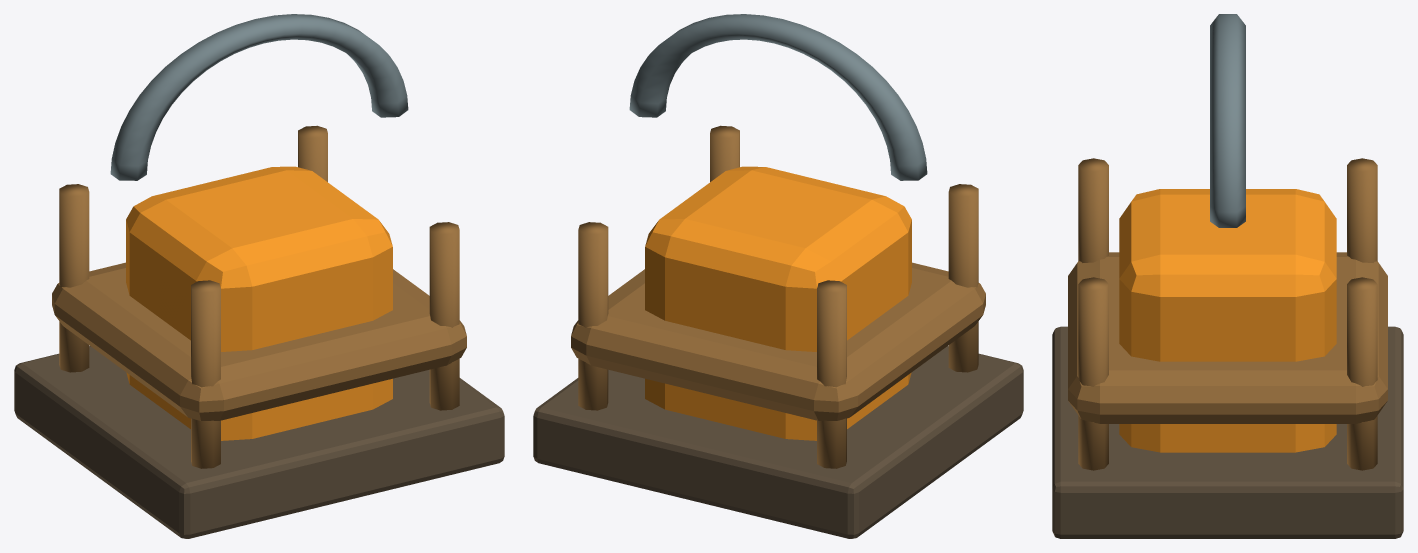
The model's file is lamp.glb.
3 renders of one model, left to right at view 1: azimuth 30°, elevation 25°; view 2: azimuth 150°, elevation 25°; view 3: azimuth 270°, elevation 25°, orthographic. The views are drawn at different scales.
Visible parts, largest first — view 1: GEO-lamp-54, GEO-lamp-Glass, GEO-lamp-148, GEO-lamp-146; view 2: GEO-lamp-54, GEO-lamp-Glass, GEO-lamp-148, GEO-lamp-146; view 3: GEO-lamp-Glass, GEO-lamp-148, GEO-lamp-54, GEO-lamp-146.
Part boxes in pixels (x1,y1,x2,y2): GEO-lamp-54: [14, 346, 504, 538]; GEO-lamp-Glass: [126, 166, 392, 440]; GEO-lamp-148: [52, 125, 466, 468]; GEO-lamp-146: [110, 14, 408, 180]; GEO-lamp-54: [533, 346, 1023, 538]; GEO-lamp-Glass: [645, 166, 911, 440]; GEO-lamp-148: [571, 125, 985, 468]; GEO-lamp-146: [629, 14, 927, 180]; GEO-lamp-Glass: [1119, 189, 1336, 452]; GEO-lamp-148: [1068, 158, 1387, 470]; GEO-lamp-54: [1052, 326, 1403, 538]; GEO-lamp-146: [1210, 14, 1245, 227].
Size of the model in its own units: 0.73 by 0.9 by 0.67.
